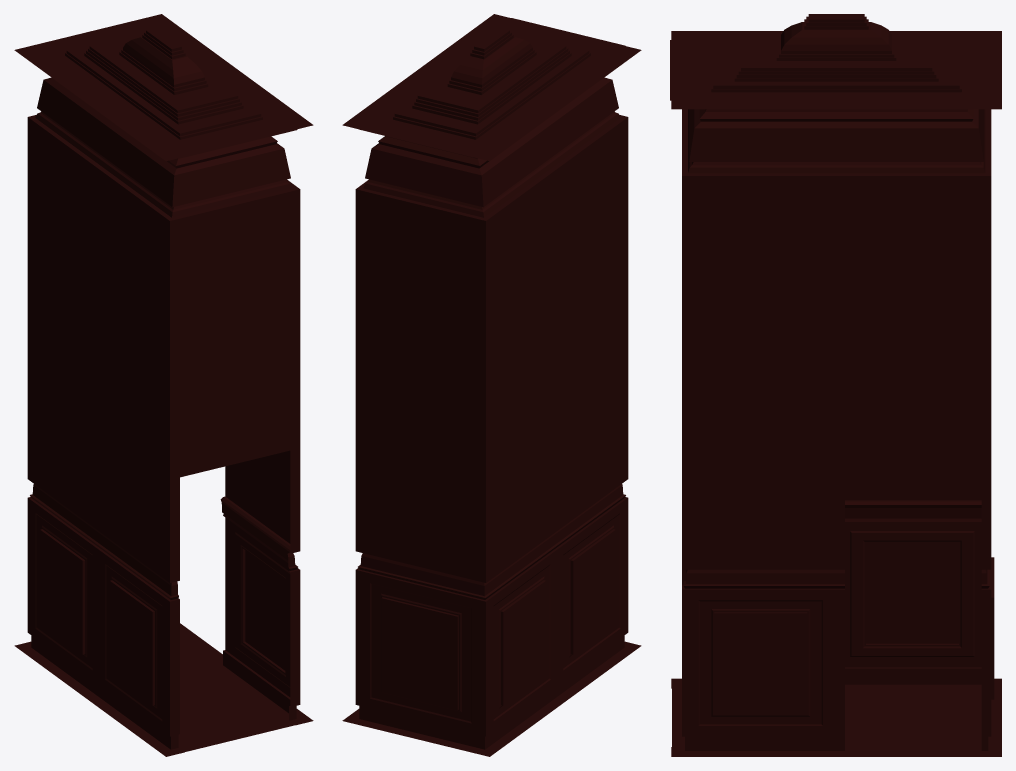
Rendered from 2door_11.FBX.
3 views of the same model, side by side, from view 1: azimuth 30°, elevation 25°; view 2: azimuth 150°, elevation 25°; view 3: azimuth 270°, elevation 25° (orthographic). The views are drawn at different scales.
Visible parts, largest first — view 1: wall, ceiling, floor; view 2: wall, ceiling, floor; view 3: wall, ceiling, floor.
Part boxes in pixels (x1,y1,x2,y2): wall: (14, 14, 313, 756); ceiling: (65, 28, 297, 157); floor: (15, 623, 312, 756); wall: (342, 14, 641, 756); ceiling: (359, 18, 625, 157); floor: (342, 642, 640, 756); wall: (671, 31, 1001, 756); ceiling: (670, 14, 961, 100); floor: (672, 679, 1001, 756).
Size of the model in its own units: 45.97 by 82.25 by 192.
